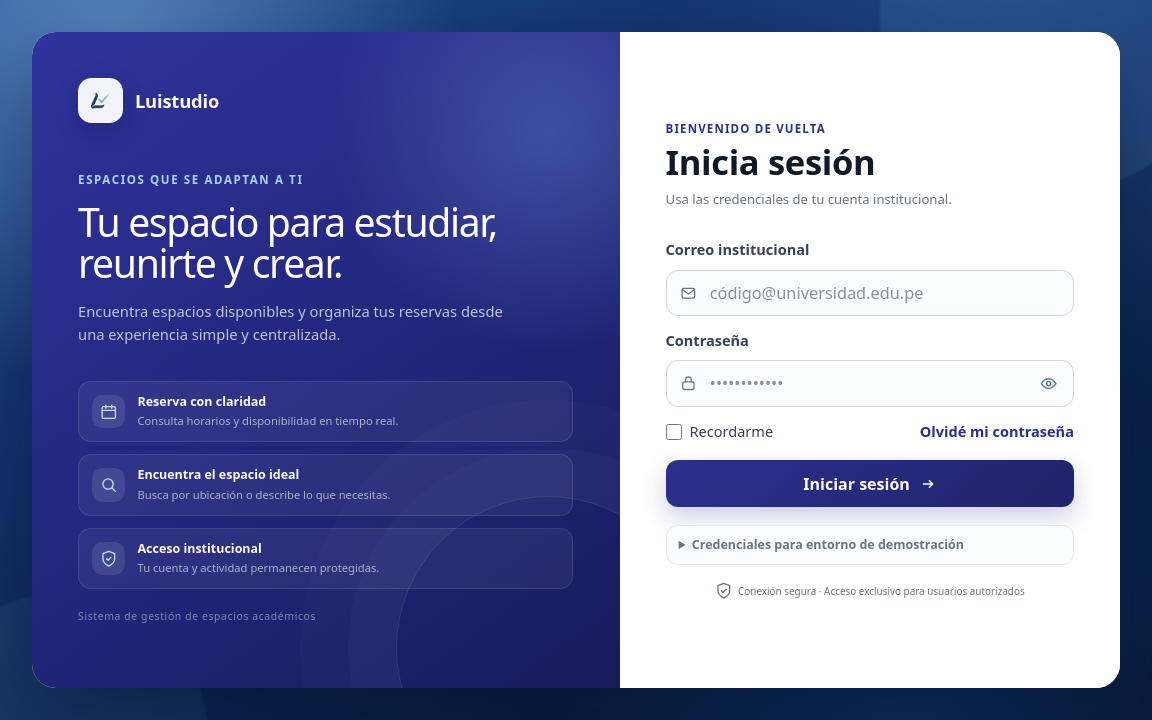
Vista crítica: Salas / disponibilidad (admin) › tras un login exitoso como admin, renderiza el listado de salas con datos mockeados
Type "20233916@aloe.ulima.edu.pe" into the field labelled "Correo institucional". click: x=870, y=293
box: top-left (666, 270), bottom-right (1074, 316)
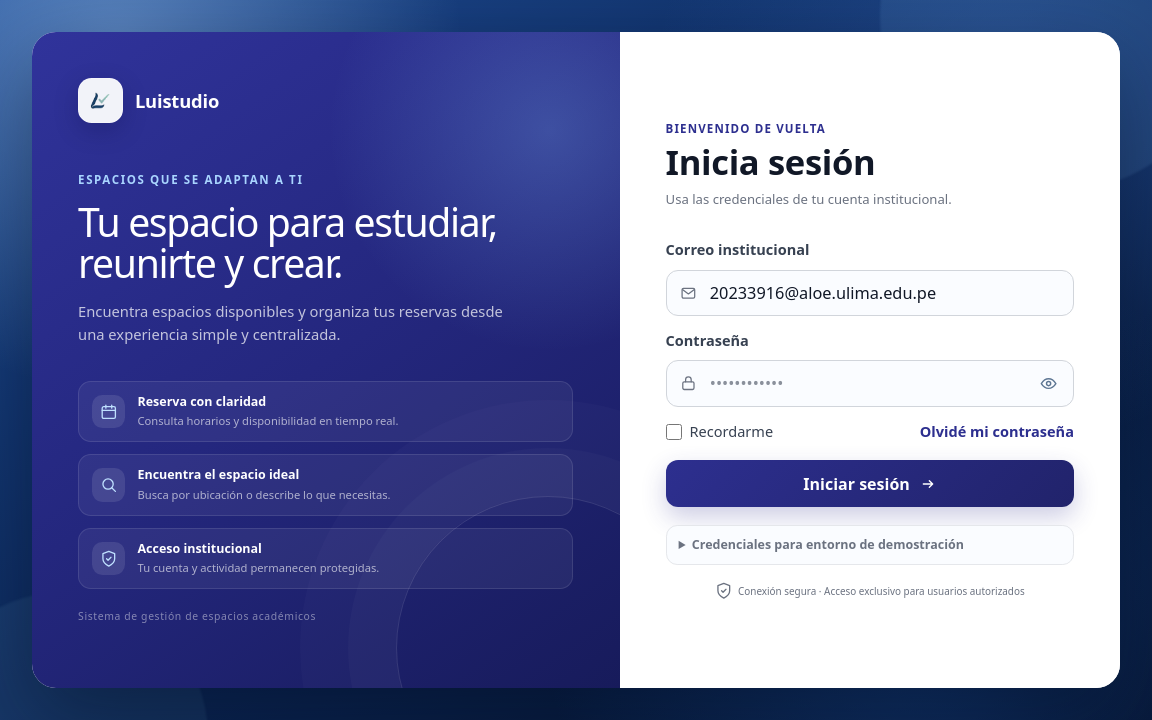
Type "Admin123!" into the password field labelled "Contraseña". click: x=870, y=384
box: top-left (666, 360), bottom-right (1074, 407)
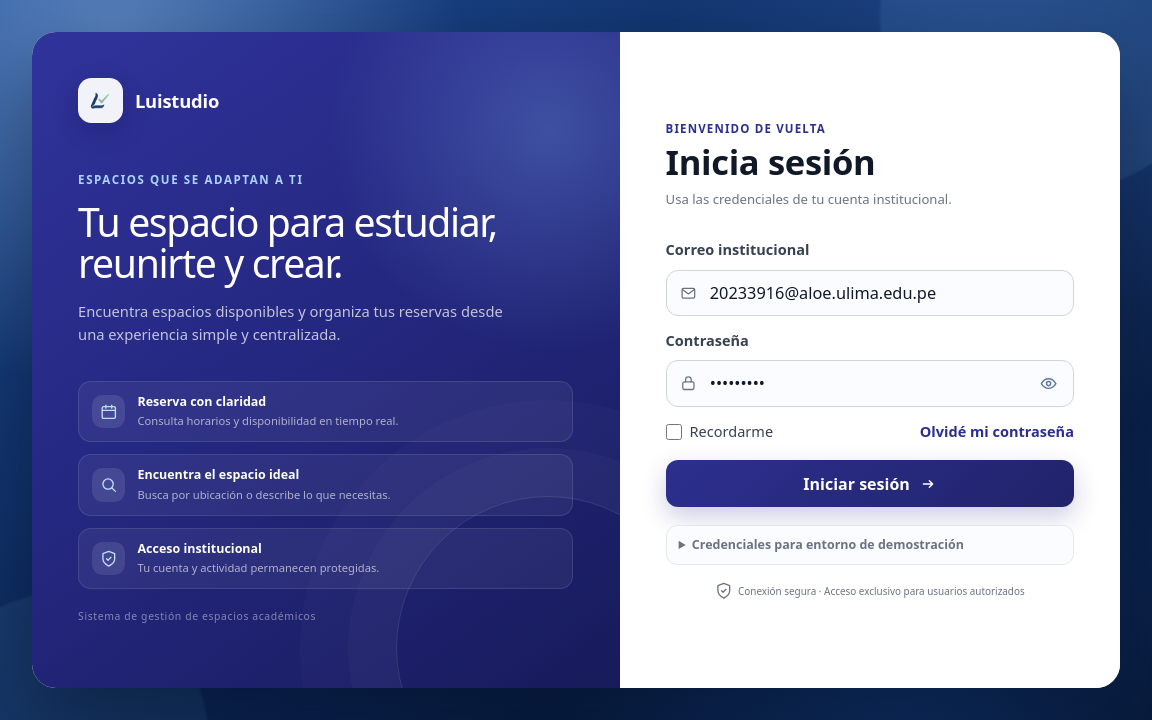
Click the button "Iniciar sesión". click: x=870, y=484
box: top-left (666, 460), bottom-right (1074, 507)
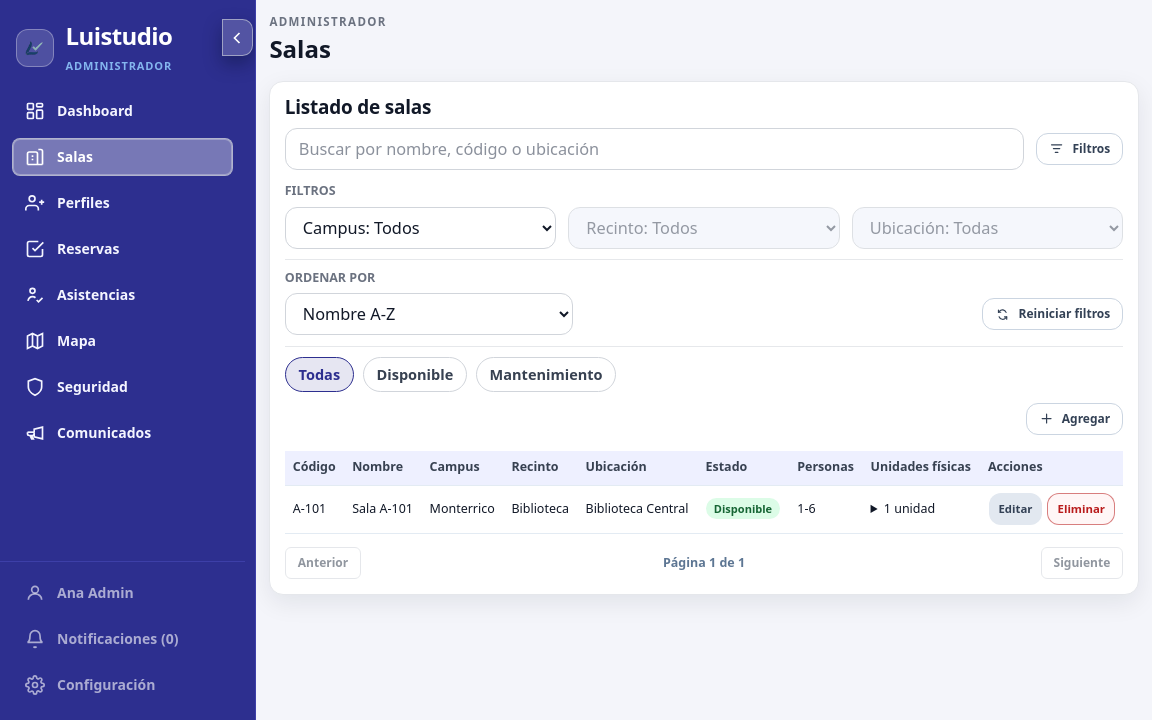
Result: the heading "Salas" is shown at top-left (269, 32), bottom-right (331, 65)
Result: the text "Sala A-101" is shown at top-left (344, 485), bottom-right (422, 534)
